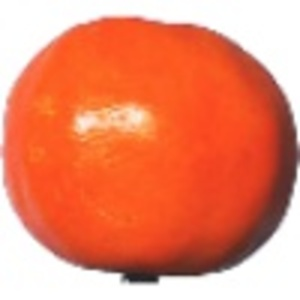tangerina: (1, 14, 300, 282)
